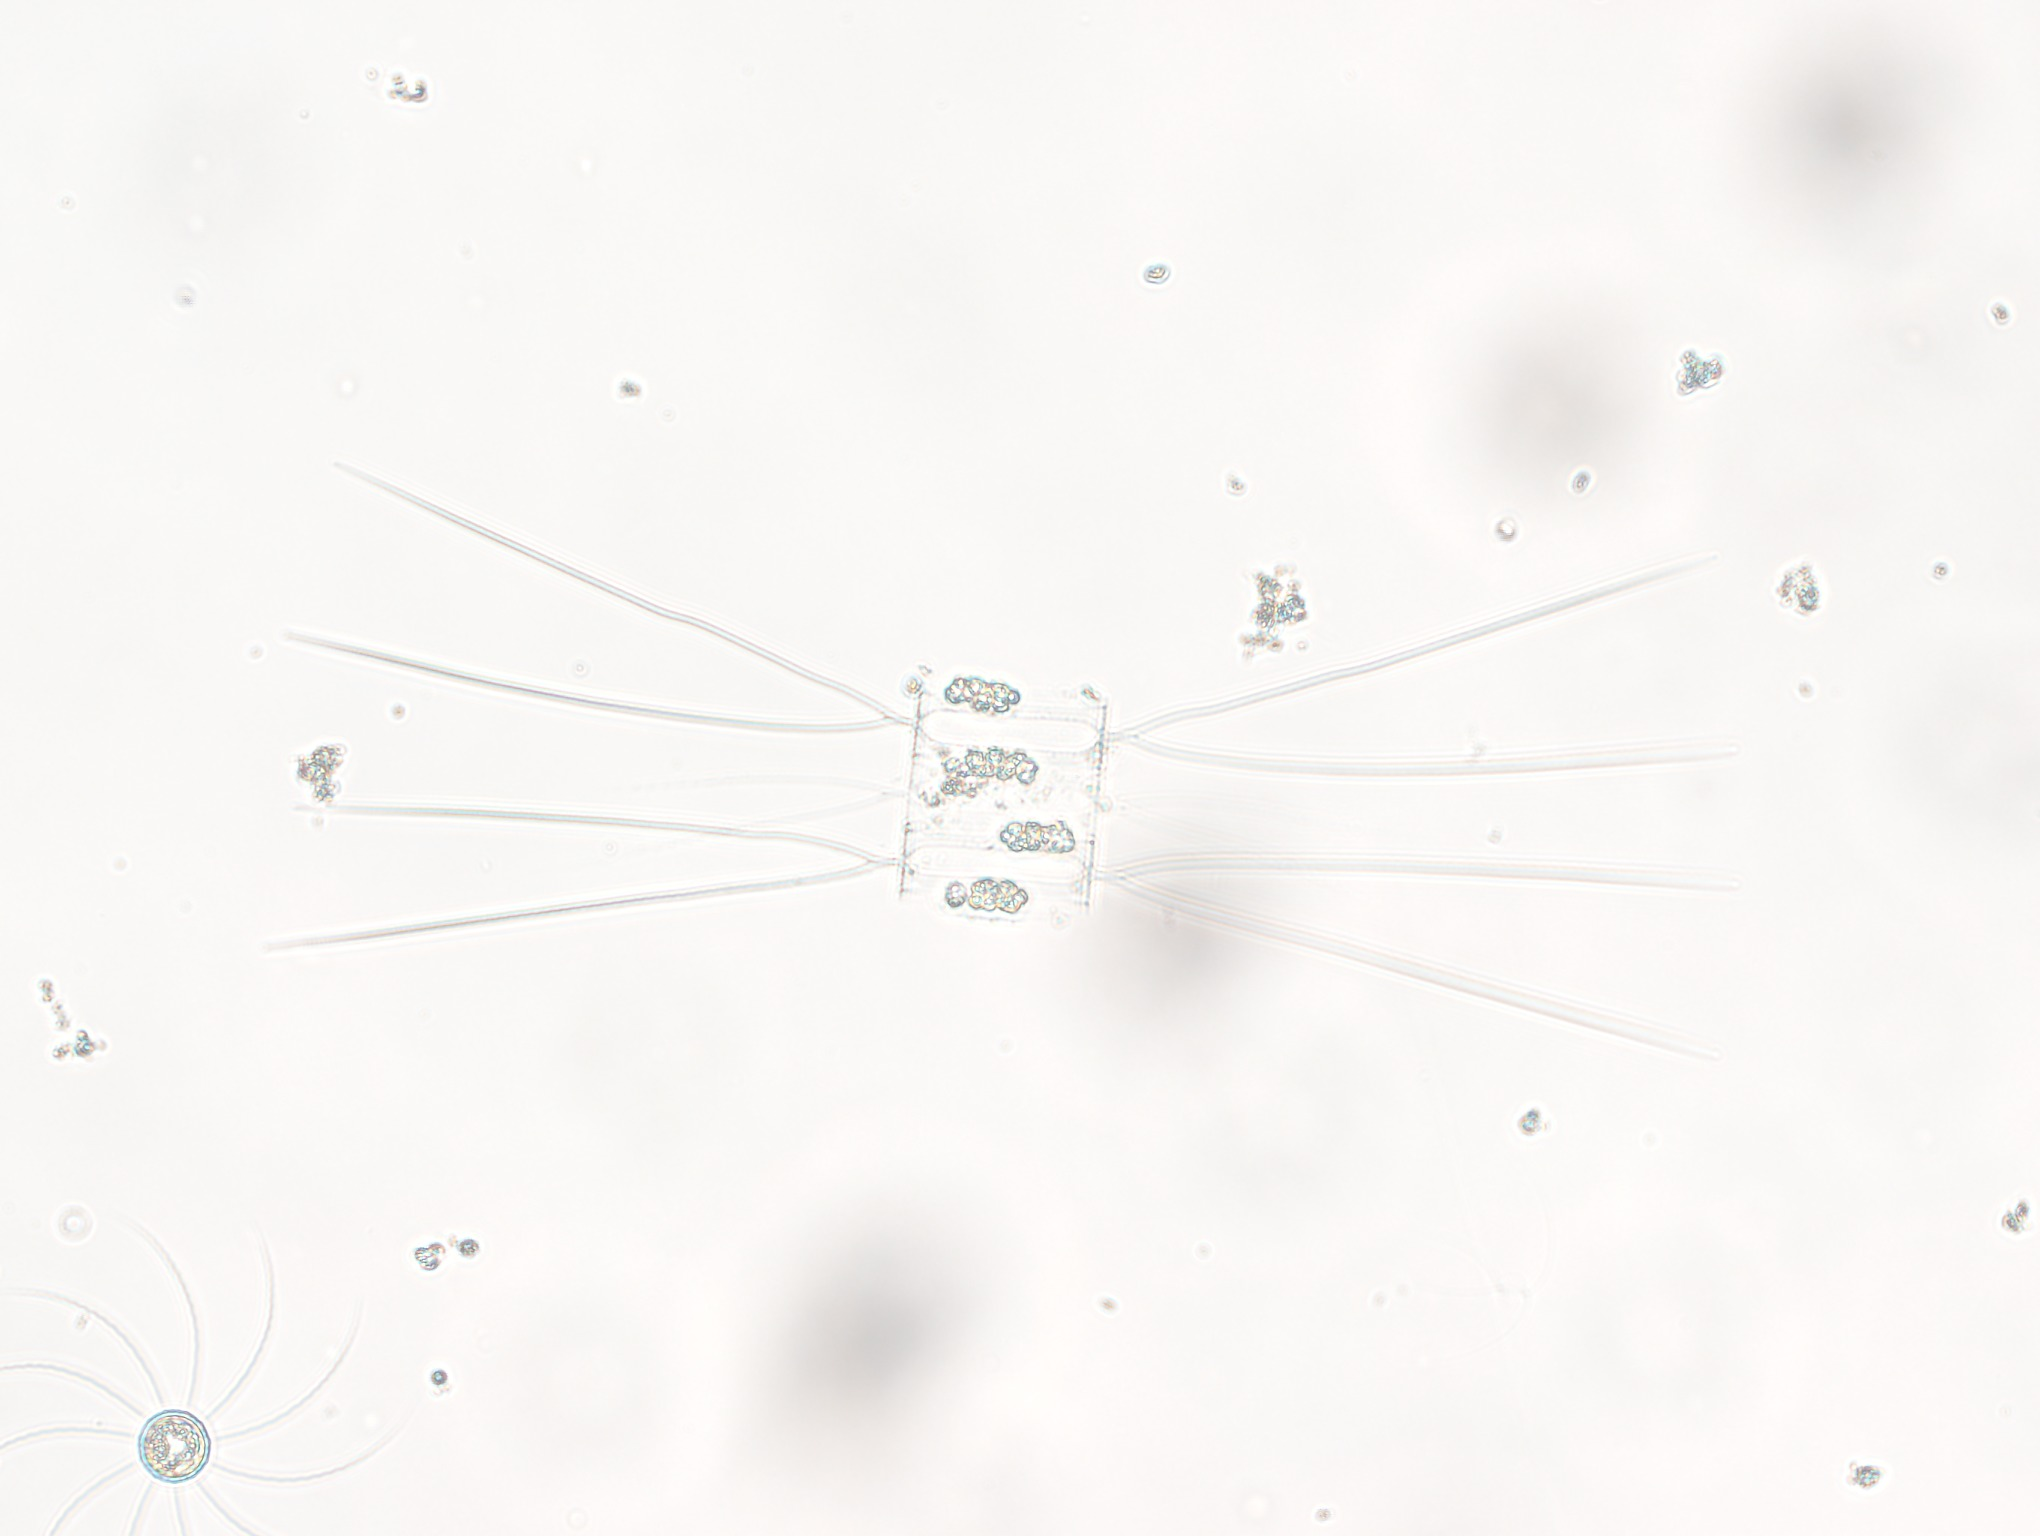chaetoceros: (198, 408, 1811, 1120)
